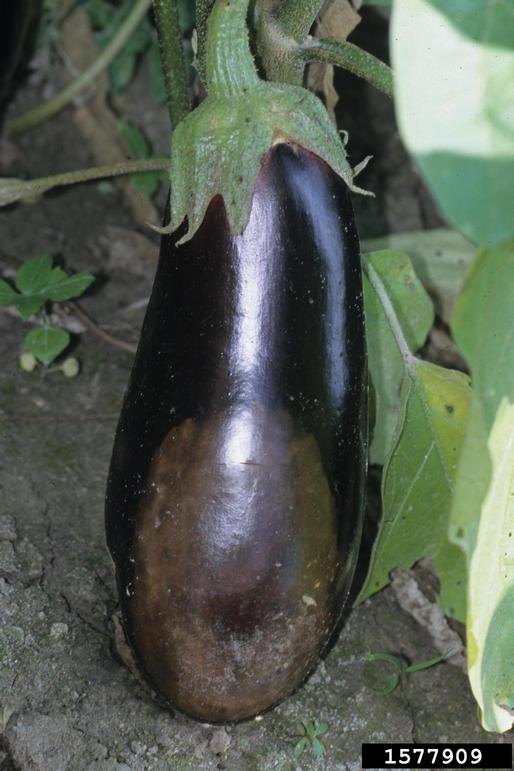Eggplant_PhytophthoraBlight: (116, 104, 378, 696)
